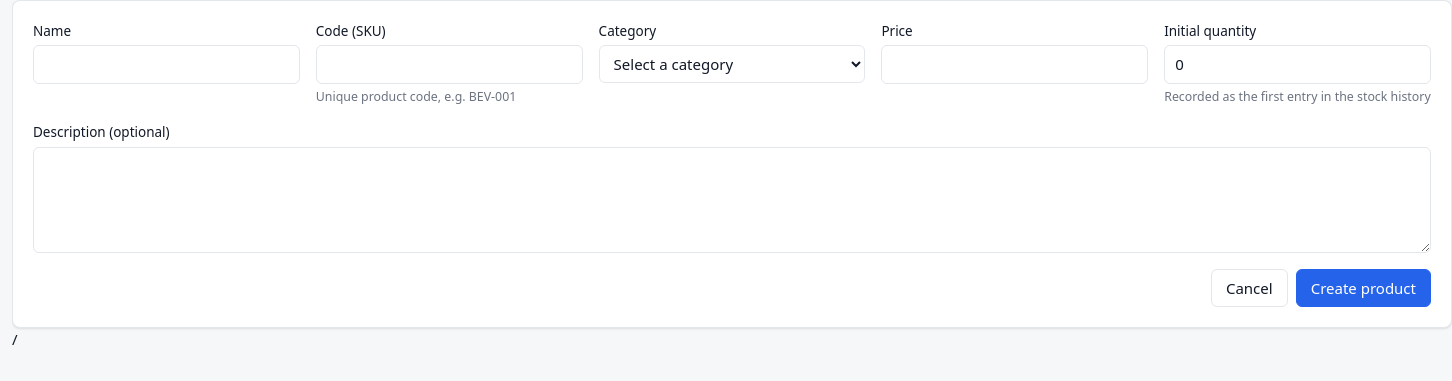
Test case: ProductForm › validates required fields before submitting
The image size is (1452, 381).
Clear the number field labelled "Initial quantity" at coordinates (1298, 65), box [1164,45,1431,84]
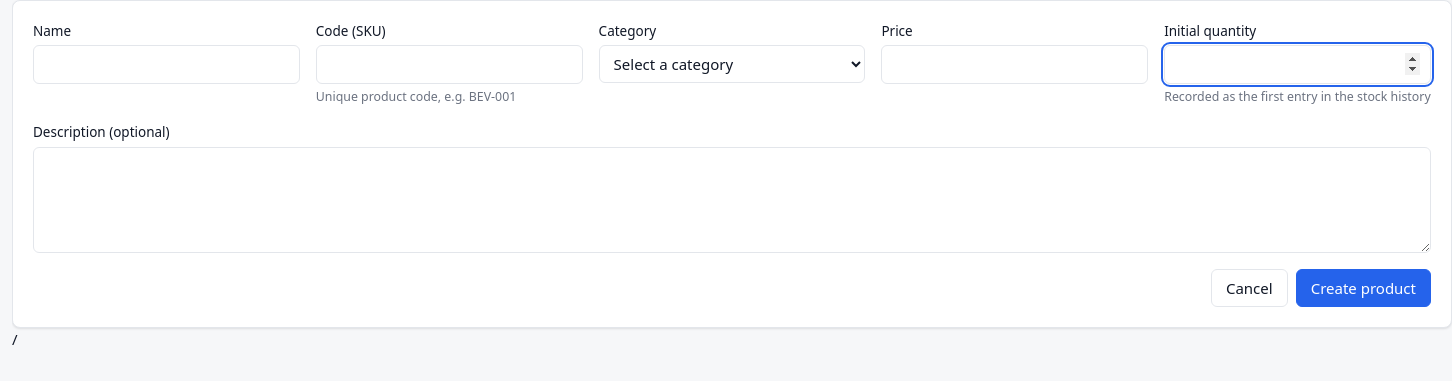
Click the button "Create product" at coordinates (1363, 288), box [1296,269,1431,307]
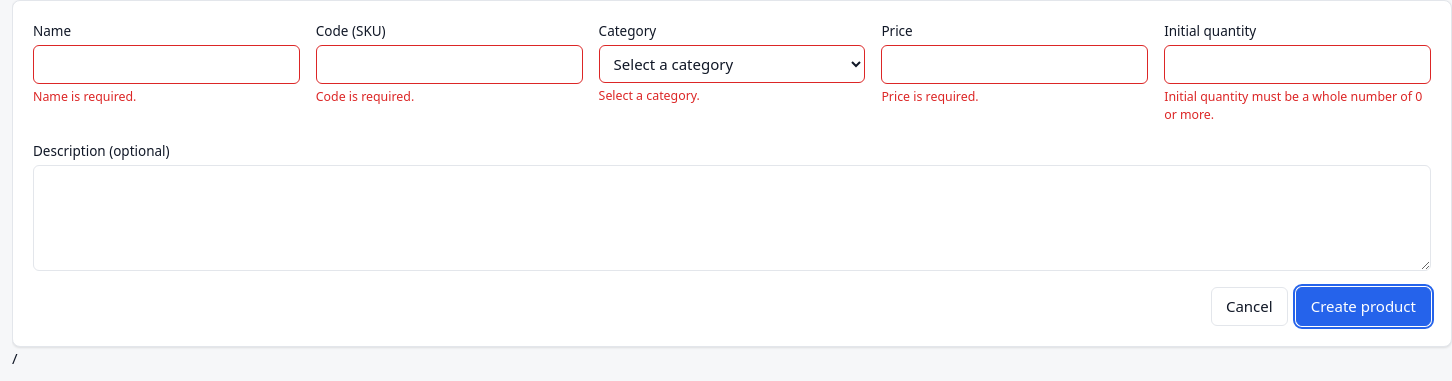
Expected: the text "Name is required." is shown, [33,88,136,105]
Expected: the text "Code is required." is shown, [316,88,414,105]
Expected: the text "Price is required." is shown, [881,88,979,105]
